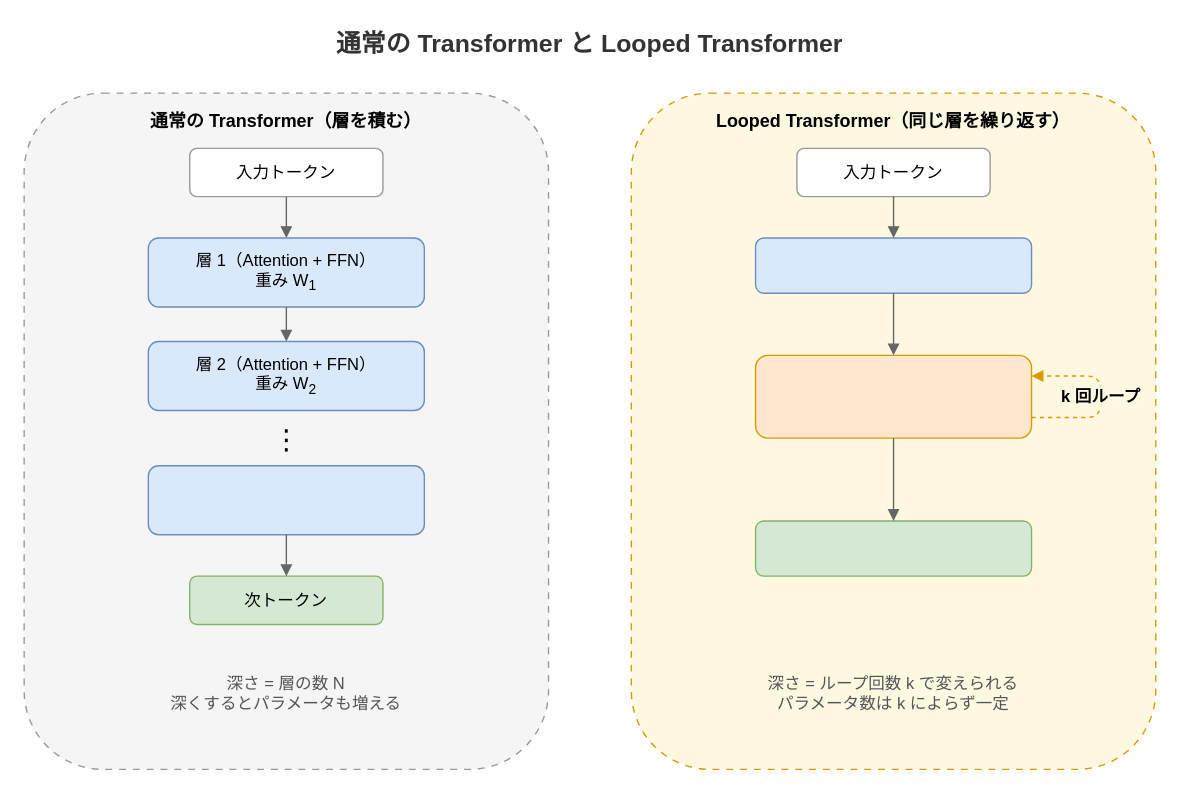
Some shapes in this 1180 by 794 pixel diagram are drawn without their labels. Here are the shapes that lost their labels. From the top down, the centre of each, then its label:
At (x=893, y=265): "入力側の層".
At (x=893, y=396): "共有ブロック 同じ重み W を毎回使う".
At (x=285, y=499): "層 N（Attention + FFN） 重み W N".
At (x=893, y=548): "出力側の層 → 次トークン".
